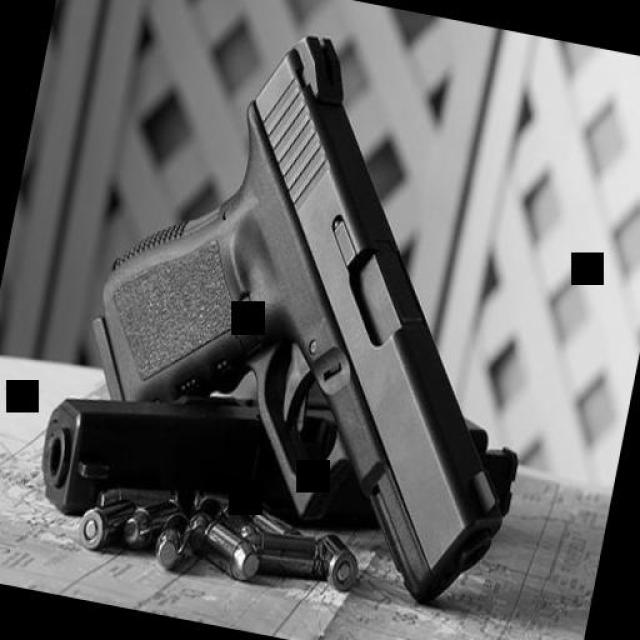gun: (50, 2, 585, 616), (28, 338, 526, 594)
